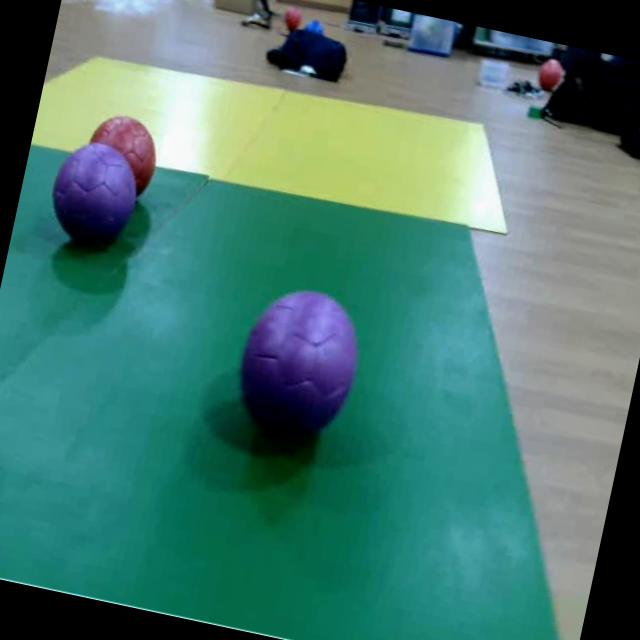purple_ball: (222, 278, 374, 464), (41, 142, 142, 257)
red_ball: (80, 105, 166, 165), (536, 54, 566, 92)
